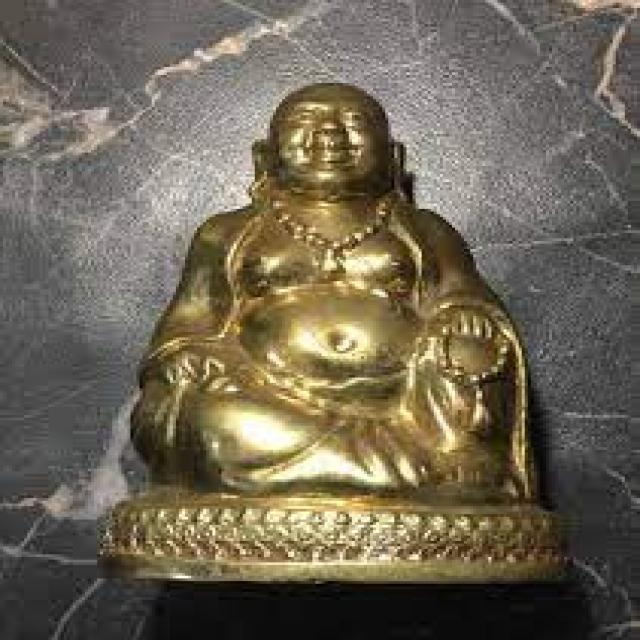Smiling Buddha: (146, 75, 516, 500)
